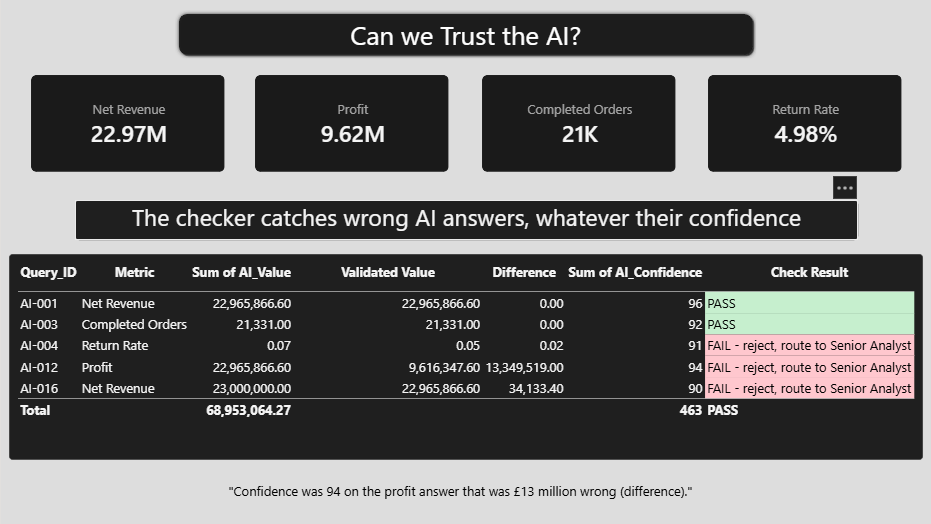

Layout of this report page (visuals, bound fields, positions):
{"tool":"powerbi","page":{"name":"Validation summary","canvas":[1920,1080],"ordinal":0},"visuals":[{"type":"tableEx","fields":{"Values":["AI_Claims.Query_ID","AI_Claims.Metric","Sum(AI_Claims.AI_Value)","AI_Claims.Validated Value","AI_Claims.Difference","Sum(AI_Claims.AI_Confidence)","AI_Claims.Check Result"]},"box":[16.5,524.4,1887,425.3],"z":0},{"type":"cardVisual","fields":{"Data":["Calculated_Measures.Return Rate"]},"box":[1460.4,155.7,400,200],"z":1000},{"type":"cardVisual","fields":{"Data":["Calculated_Measures.Profit"]},"box":[524.4,154.8,400,200],"z":2000},{"type":"cardVisual","fields":{"Data":["Calculated_Measures.Completed Orders"]},"box":[993,154.8,400,200],"z":3000},{"type":"cardVisual","fields":{"Data":["Calculated_Measures.Net Revenue"]},"box":[61.9,154.8,400,200],"z":4000},{"type":"textbox","box":[152.8,412.9,1616.5,82.6],"z":5000},{"type":"textbox","box":[462.5,995.1,997.2,61.9],"z":6000},{"type":"shape","box":[359.2,20.6,1200,100],"z":7000}]}

Visuals, with their boxes in screenshot pixels (x1, y1, x2, y2), scaled from the page's 1920x1080 canvas onto the 931x524 screenshot:
tableEx - AI_Claims.Query_ID x AI_Claims.Metric: bbox(8, 254, 923, 461)
cardVisual - Calculated_Measures.Return Rate: bbox(708, 76, 902, 173)
cardVisual - Calculated_Measures.Profit: bbox(254, 75, 448, 172)
cardVisual - Calculated_Measures.Completed Orders: bbox(482, 75, 675, 172)
cardVisual - Calculated_Measures.Net Revenue: bbox(30, 75, 224, 172)
textbox: bbox(74, 200, 858, 240)
textbox: bbox(224, 483, 708, 513)
shape: bbox(174, 10, 756, 59)
